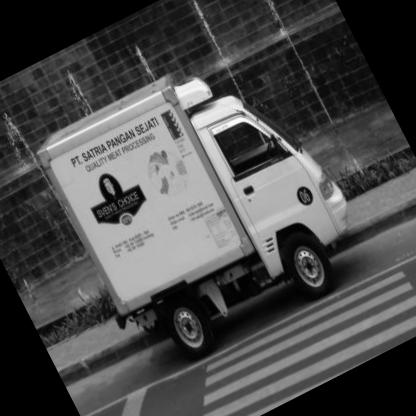truck: (10, 5, 392, 402)
